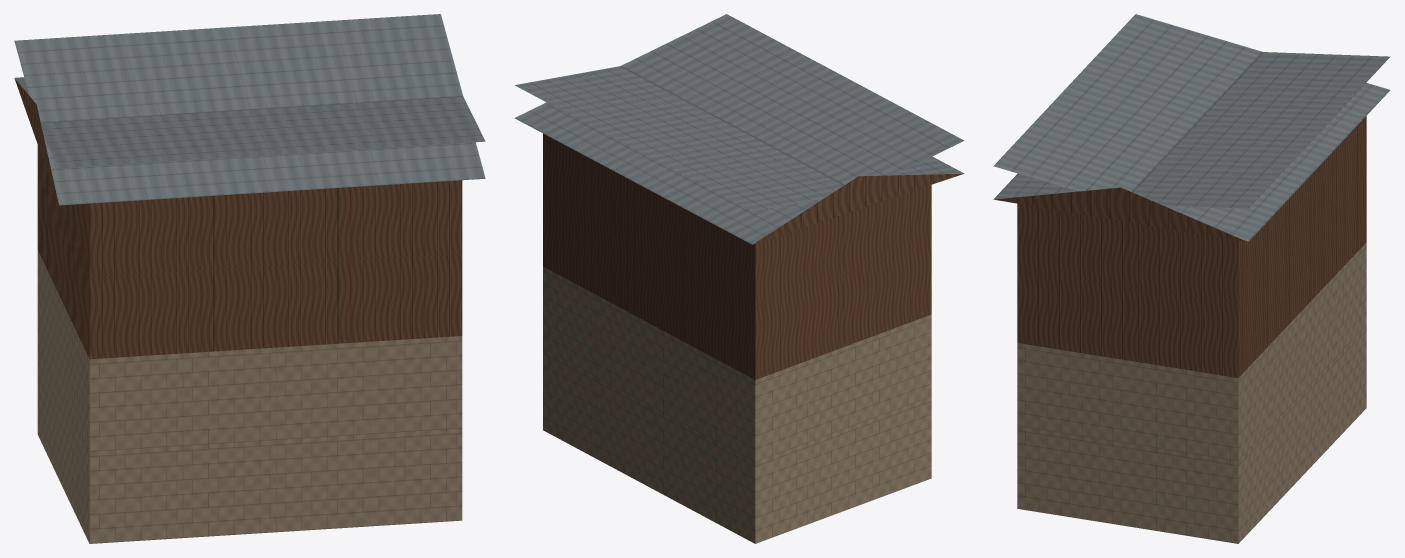
File: bld_c10_7_513.gltf
The picture shows the model from 3 angles, left to right: view 1: azimuth 30°, elevation 25°; view 2: azimuth 150°, elevation 25°; view 3: azimuth 270°, elevation 25°; orthographic projection. The views are drawn at different scales.
Visible parts, largest first — view 1: bld_c10_7_513; view 2: bld_c10_7_513; view 3: bld_c10_7_513.
Boxes of the visible parts, <box> form: bld_c10_7_513: <box>14,14,485,543</box>; bld_c10_7_513: <box>514,14,964,543</box>; bld_c10_7_513: <box>993,14,1390,543</box>.
Bounding box in the file's own units: 12.52 × 10.4 × 10.8.
4 materials, 4 textured.
